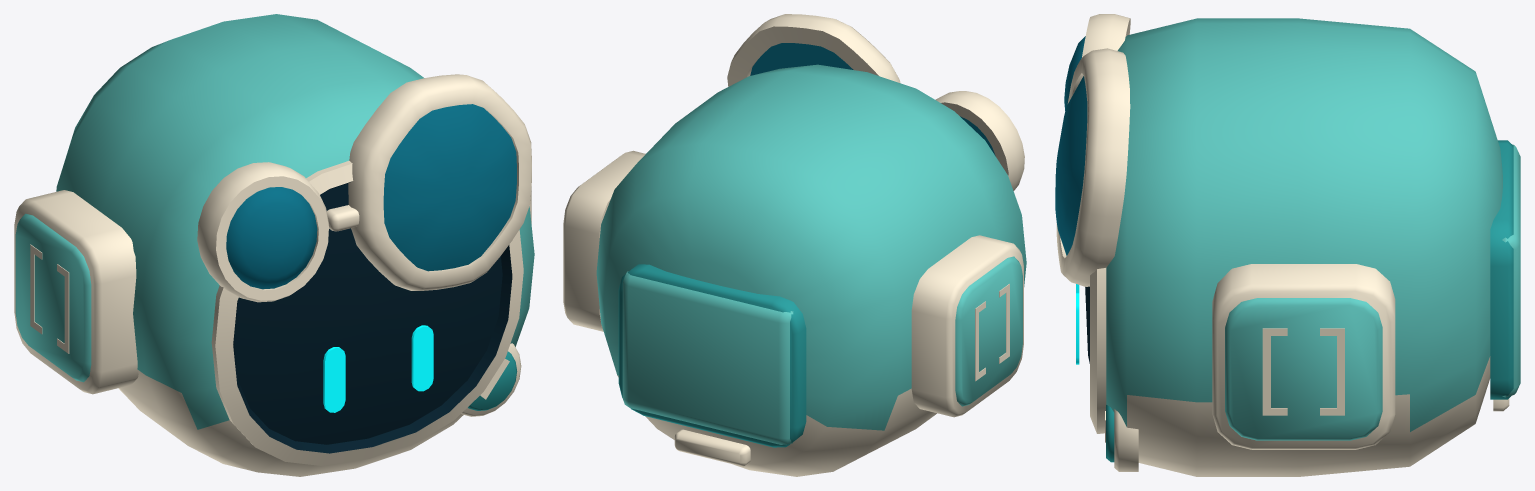
File: copilot_tester_v01.glb
The picture shows the model from 3 angles, left to right: view 1: azimuth 30°, elevation 25°; view 2: azimuth 150°, elevation 25°; view 3: azimuth 270°, elevation 25°; orthographic projection. The views are drawn at different scales.
Visible parts, largest first — view 1: tester_model; view 2: tester_model; view 3: tester_model.
Part boxes in pixels (x1,y1,x2,y2): tester_model: (14, 14, 534, 476); tester_model: (563, 14, 1026, 476); tester_model: (1055, 14, 1520, 476).
Size of the model in its own units: 2.39 by 2.02 by 2.01.
Materials: 2 (2 with a texture image).
